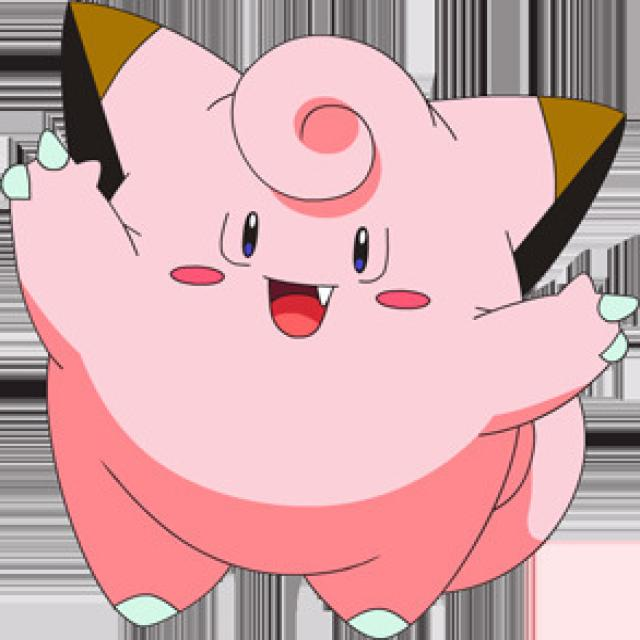Clefairy: (6, 9, 624, 625)
